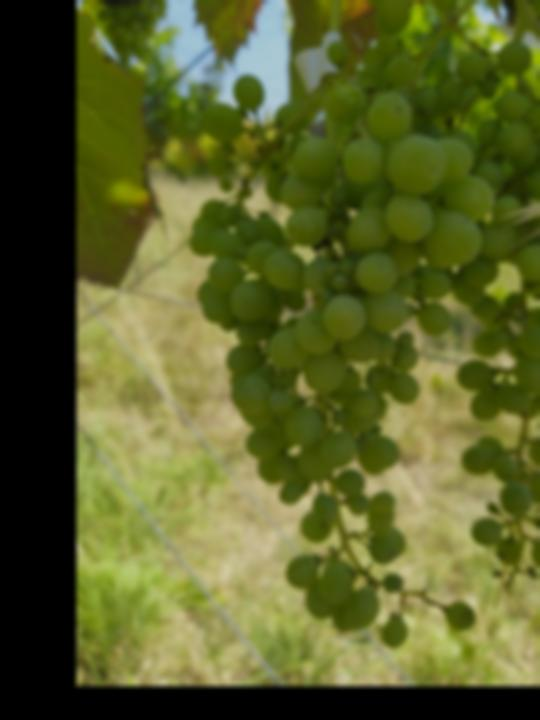grape: (182, 38, 498, 652)
